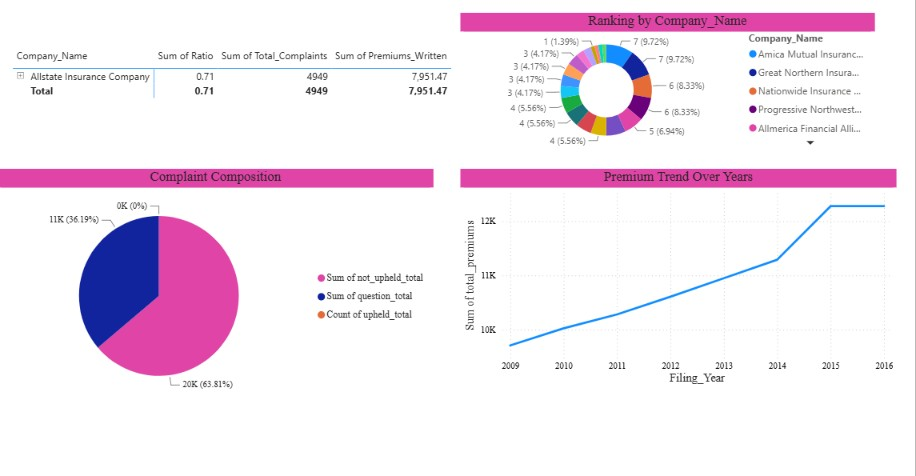

What the dashboard file says about the page in this screenshot:
{"tool":"powerbi","page":{"name":"Page 2","canvas":[1280,720],"ordinal":1},"visuals":[{"type":"lineChart","title":"Premium Trend Over Years","fields":{"Category":["auto_5(a).Filing_Year"],"Y":["Sum(auto_5(a).total_premiums)"]},"box":[655.7,247.1,598.6,300],"z":0},{"type":"pivotTable","fields":{"Values":["Sum(auto_7.Ratio)","Sum(auto_7.Total_Complaints)","Sum(auto_7.Premiums_Written)"],"Rows":["auto_7.Company_Name","auto_7.Filing_Year"]},"box":[37.1,75.7,618.6,100],"z":1000},{"type":"pieChart","title":"Complaint Composition","fields":{"Y":["Sum(auto_8.not_upheld_total)","Sum(auto_8.question_total)","CountNonNull(auto_8.upheld_total)"]},"box":[20,247.1,598.6,328.6],"z":2000},{"type":"donutChart","title":"Ranking by Company_Name","fields":{"Category":["auto_10.Company_Name"],"Y":["Sum(auto_10.Ranking)"]},"box":[655.7,32.9,568.6,191.4],"z":2001}]}

Visuals, with their boxes on the page's 1280x720 design canvas (x1, y1, x2, y2). These are canvas units, not pixel positions in the 916x476 screenshot, which may show the page scaled, cropped or inside an application window:
"Premium Trend Over Years" lineChart: x1=656 y1=247 x2=1254 y2=547
pivotTable - Sum(auto_7.Ratio) x Sum(auto_7.Total_Complaints): x1=37 y1=76 x2=656 y2=176
"Complaint Composition" pieChart: x1=20 y1=247 x2=619 y2=576
"Ranking by Company_Name" donutChart: x1=656 y1=33 x2=1224 y2=224
